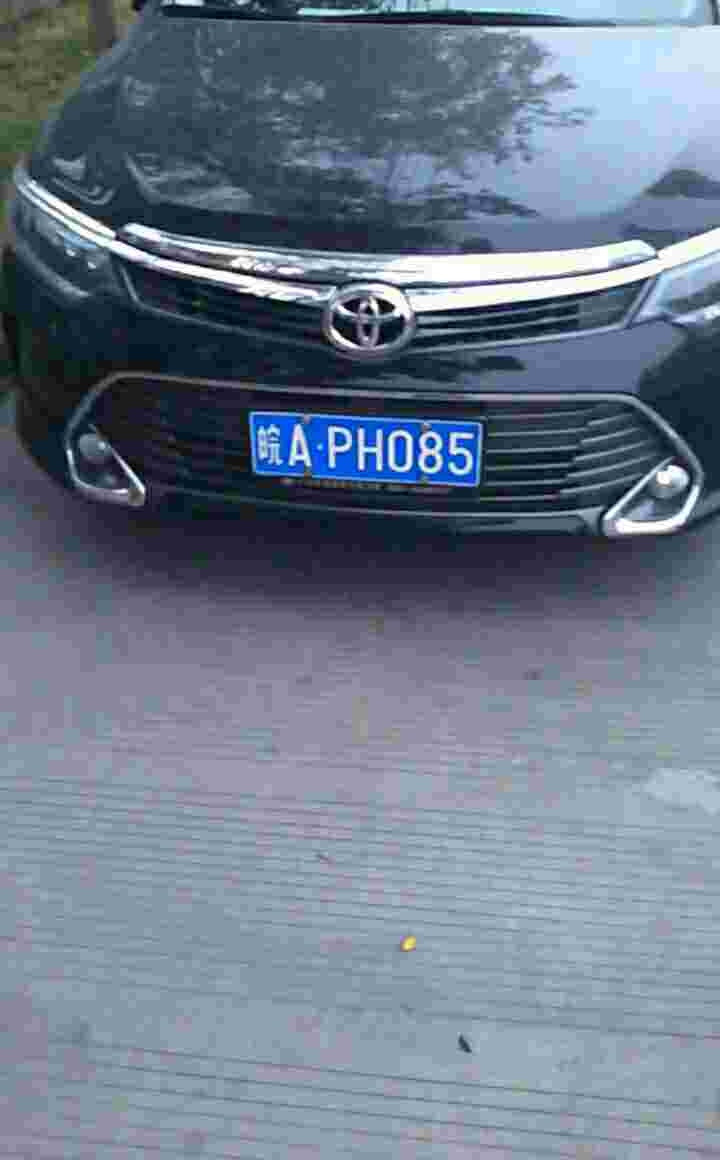license_plate: (251, 420, 487, 487)
